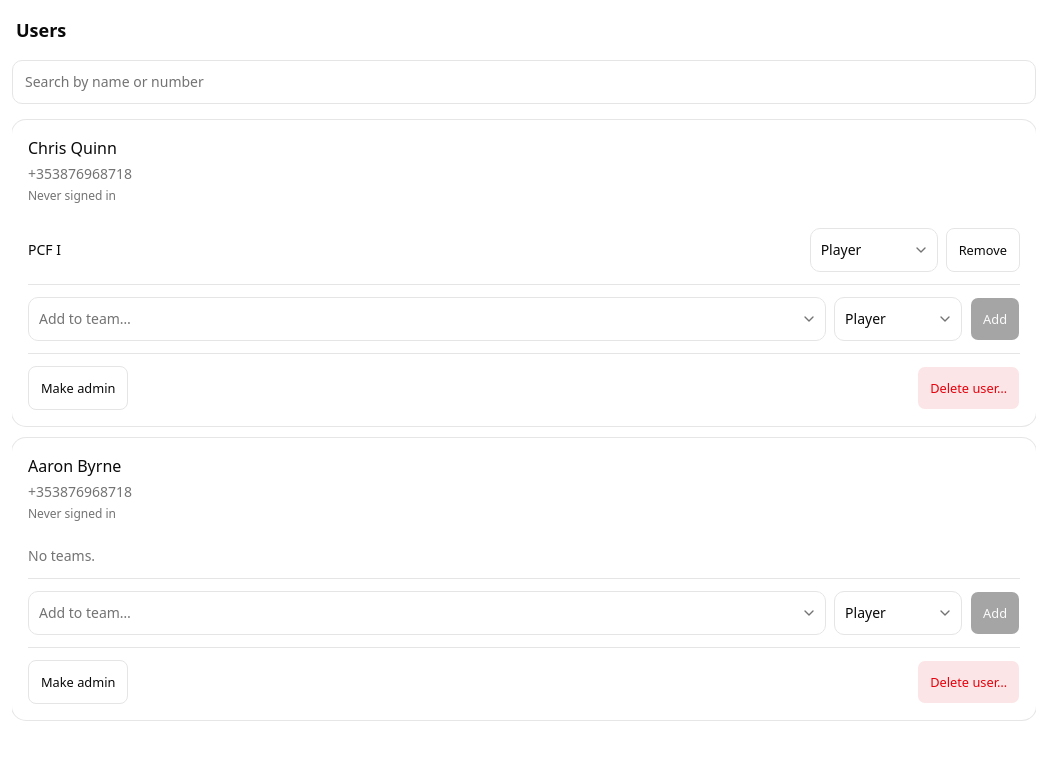
AdminUsersScreen (S14.2) › filters by name
The image size is (1048, 768).
Type "aaron" into the field named "Search users".
click(524, 82); type("aaron")  # box [12,60,1036,104]
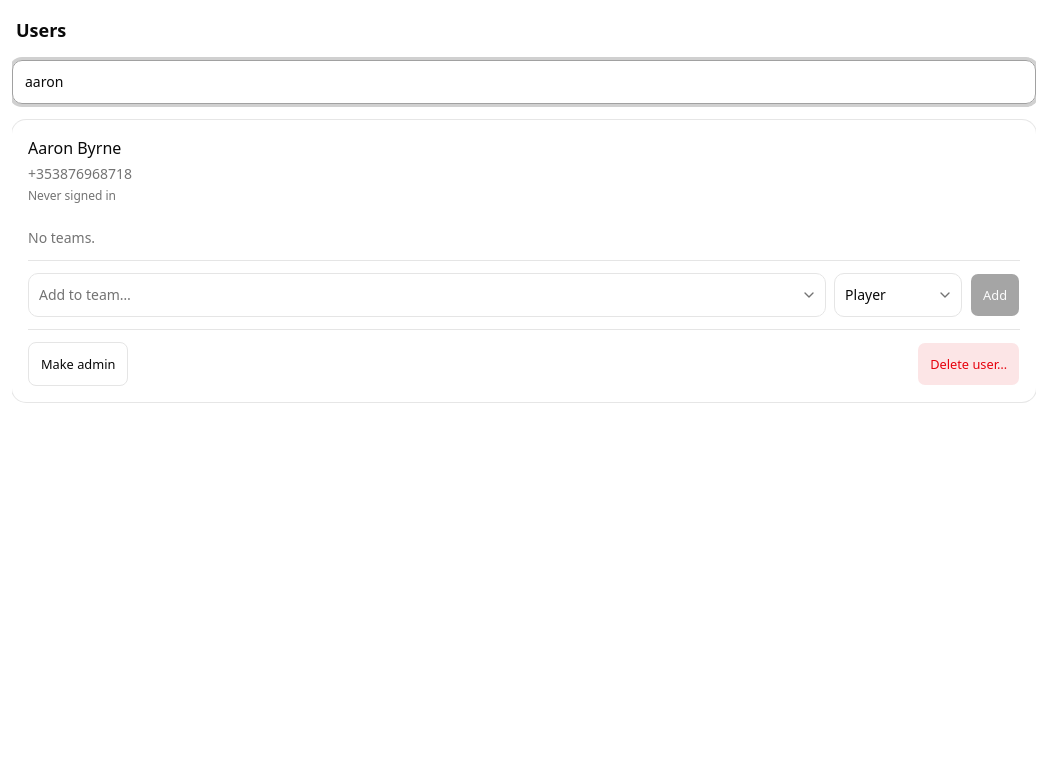
Expected: the text "Aaron Byrne" is shown, [28,136,121,160]
Expected: the text "Chris Quinn" is gone
